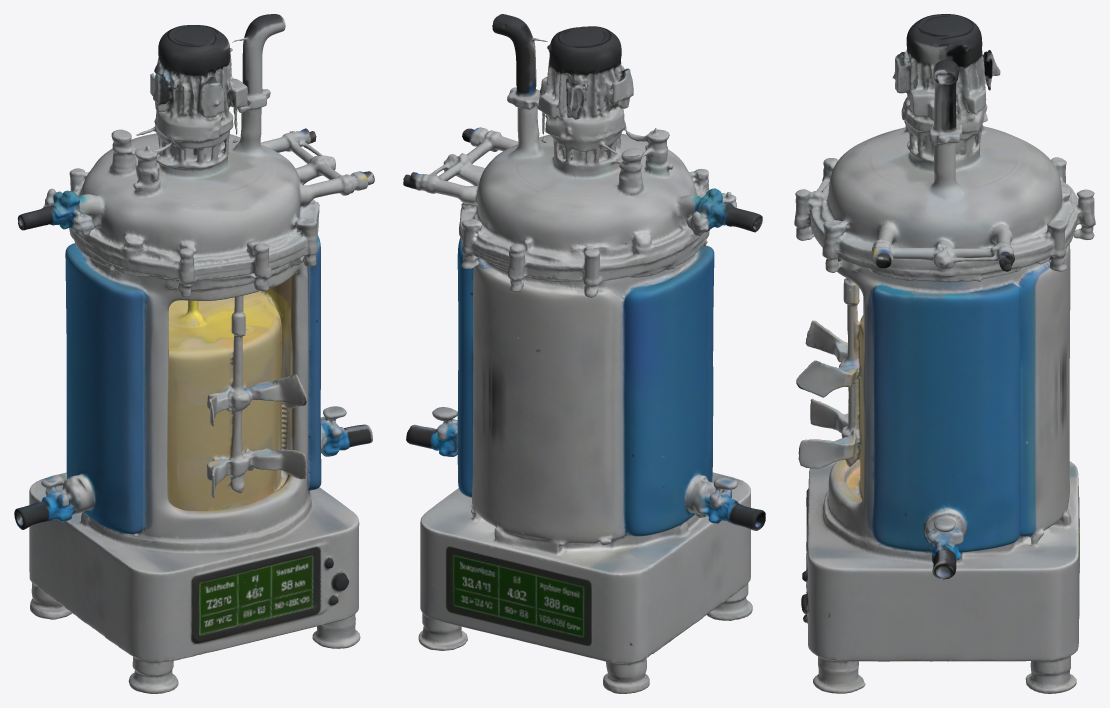
Rendered from Stir Tank Fermentor_new.glb.
3 views of the same model, side by side, from view 1: azimuth 30°, elevation 25°; view 2: azimuth 150°, elevation 25°; view 3: azimuth 270°, elevation 25° (orthographic). The views are drawn at different scales.
Bounding box in the file's own units: 1.24 × 2 × 0.8912.
Materials: 1 (1 with a texture image).
